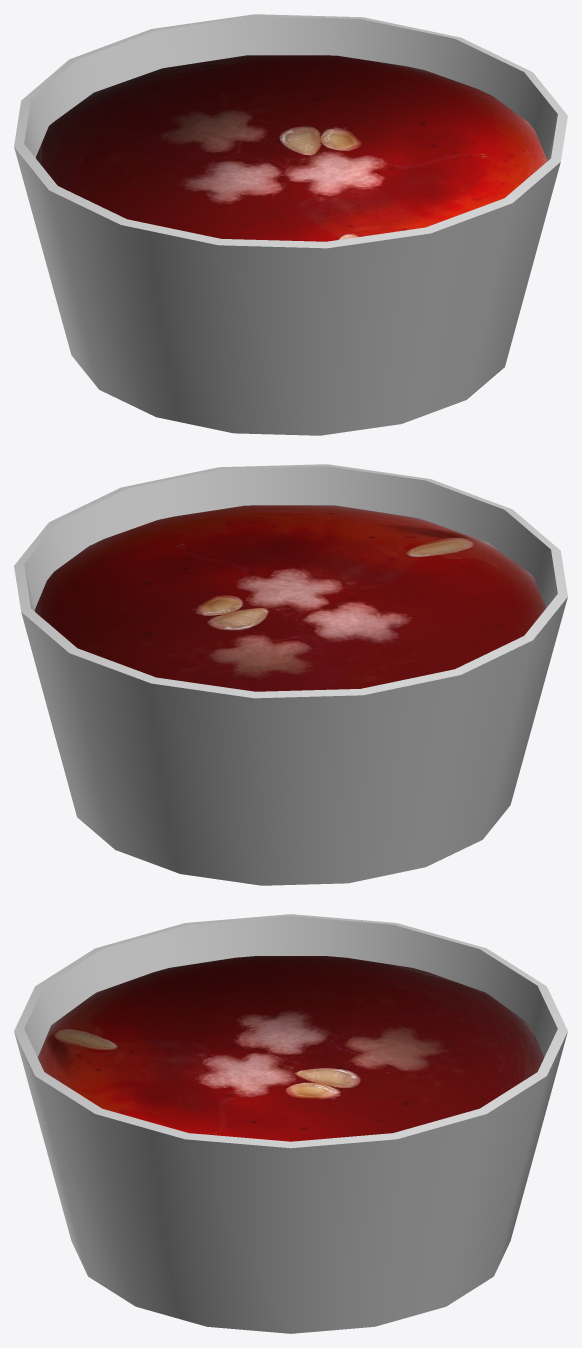
The model's file is Omija_tea.fbx.
3 renders of one model, top to bottom at view 1: azimuth 30°, elevation 25°; view 2: azimuth 150°, elevation 25°; view 3: azimuth 270°, elevation 25°, orthographic.
Visible parts, largest first — view 1: Dish, Omija_Tea; view 2: Dish, Omija_Tea; view 3: Dish, Omija_Tea.
Boxes of the visible parts, <box> form: Dish: <box>14,14,567,435</box>; Omija_Tea: <box>36,55,547,241</box>; Dish: <box>14,464,567,885</box>; Omija_Tea: <box>34,505,545,691</box>; Dish: <box>14,914,567,1333</box>; Omija_Tea: <box>37,956,544,1141</box>.
Bounding box in the file's own units: 106 × 46.65 × 106.
Materials: 2 (1 with a texture image).
